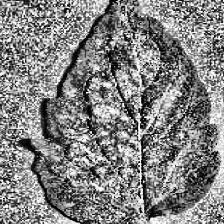spider mites: (31, 0, 221, 224)
